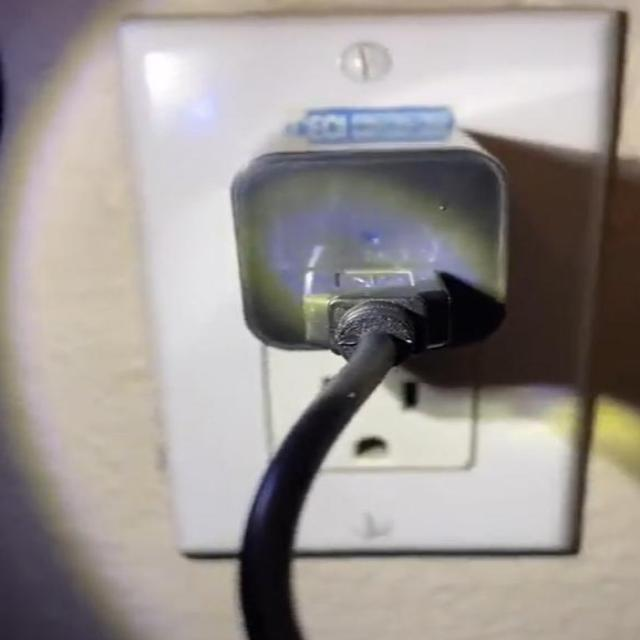hidden camera: (363, 233, 384, 246)
